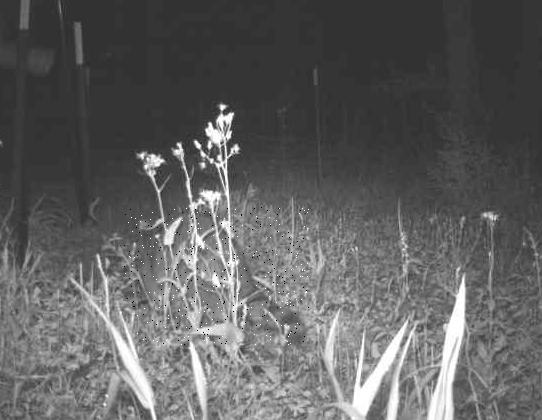Raccoon: (124, 207, 309, 345)
